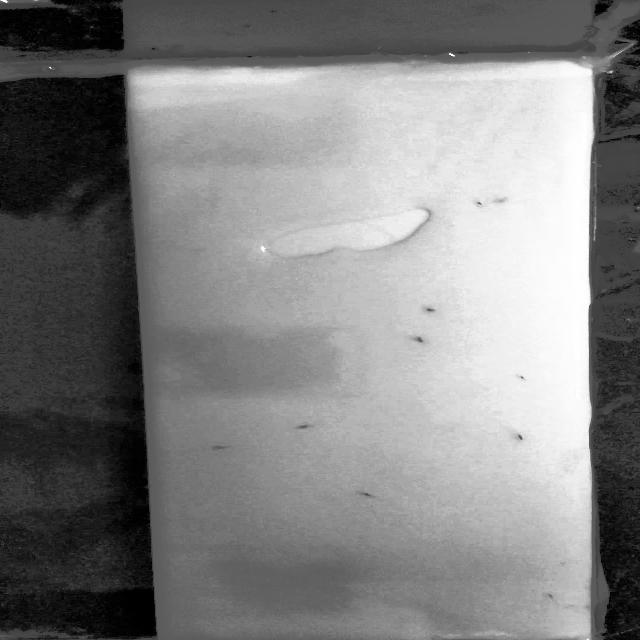shrimp: (545, 592, 566, 608), (289, 420, 318, 430), (512, 431, 534, 442), (412, 335, 430, 347), (208, 445, 238, 452), (472, 198, 489, 210), (361, 492, 380, 502), (516, 372, 530, 382), (422, 306, 440, 312)
